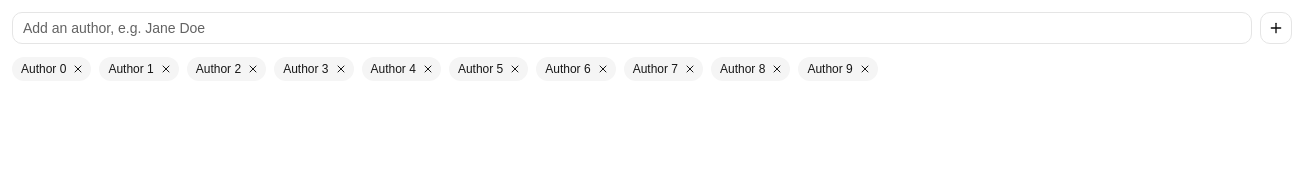
Test: AuthorPicker › refuses a new author once the limit is reached
The width and height of the screenshot is (1304, 172).
Type "One More" into the field named "add author" at (632, 28), box [12, 12, 1252, 44]
Then press Enter
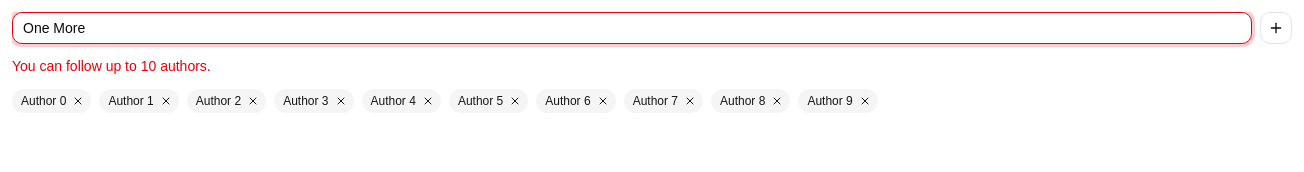
Check: the message shows "up to 10 authors", box [12, 58, 211, 74]
